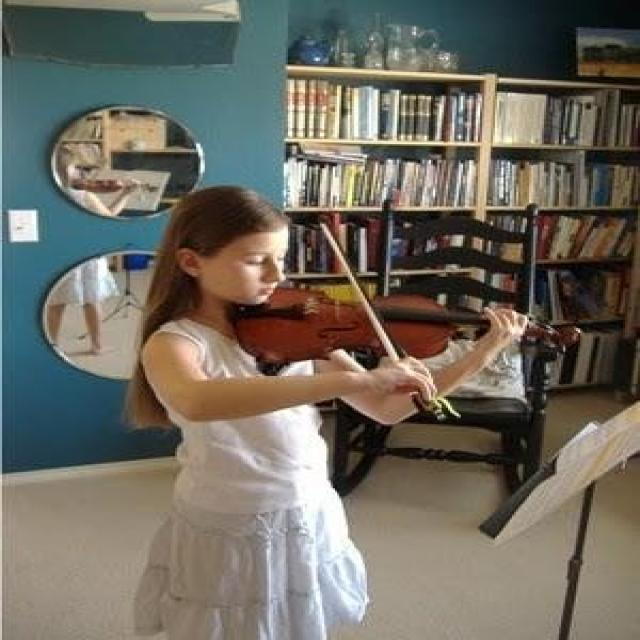violin: (235, 285, 584, 361)
